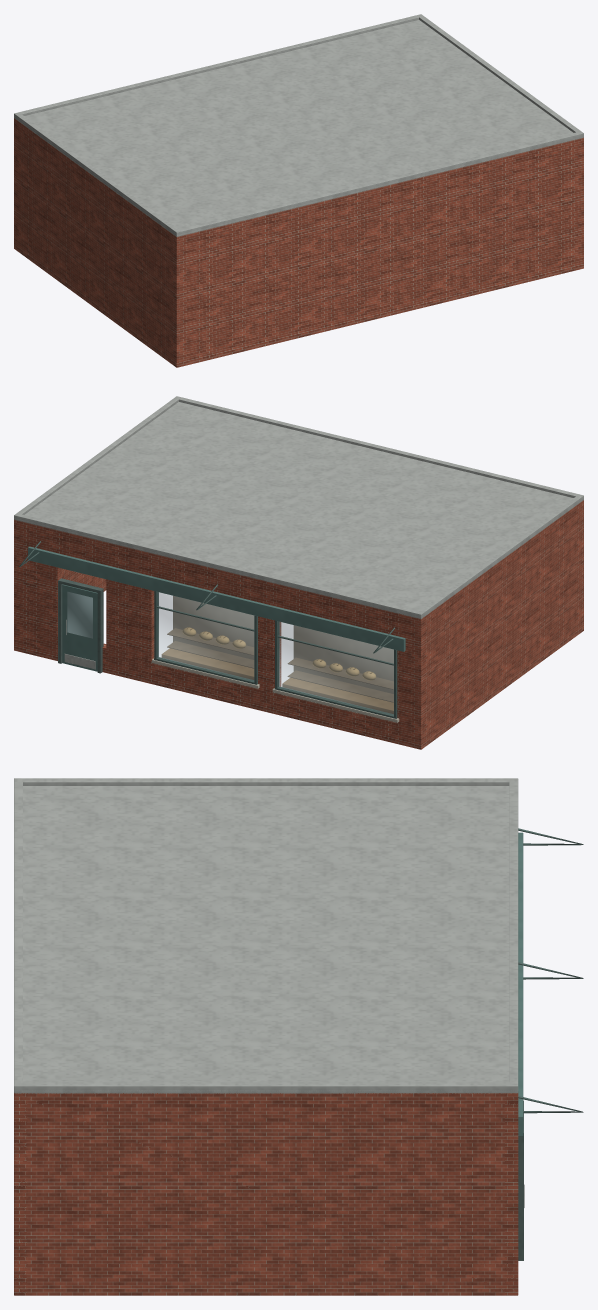
File: bakery_shell.glb
3 views of the same model, one above another, from view 1: azimuth 30°, elevation 25°; view 2: azimuth 150°, elevation 25°; view 3: azimuth 270°, elevation 25° (orthographic). The views are drawn at different scales.
Parts seen in each view (by area): view 1: BakeryFacadeSurface, BakeryRoofSurface; view 2: BakeryFacadeSurface, BakeryRoofSurface, BakeryDisplaySurface, BakeryClosedDoorSurface; view 3: BakeryRoofSurface, BakeryFacadeSurface, BakeryClosedDoorSurface.
Part boxes in pixels (left/top/right/bottom): BakeryFacadeSurface: left=14, top=118, right=583, bottom=367; BakeryRoofSurface: left=14, top=14, right=583, bottom=236; BakeryFacadeSurface: left=14, top=500, right=583, bottom=749; BakeryRoofSurface: left=14, top=396, right=583, bottom=653; BakeryDisplaySurface: left=161, top=596, right=393, bottom=713; BakeryClosedDoorSurface: left=58, top=578, right=103, bottom=673; BakeryRoofSurface: left=14, top=778, right=583, bottom=1113; BakeryFacadeSurface: left=14, top=832, right=523, bottom=1295; BakeryClosedDoorSurface: left=518, top=1100, right=524, bottom=1260.
Size of the model in its own units: 13 by 4.13 by 10.17.
4 materials, 3 textured.
